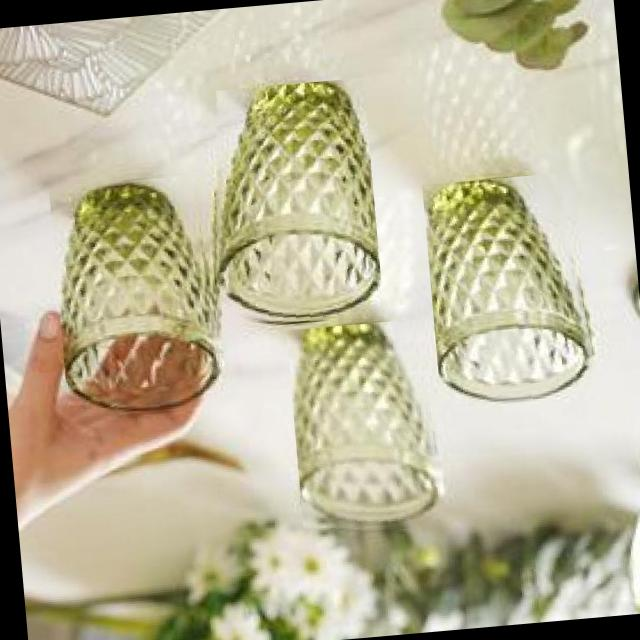Glass: (194, 76, 383, 334), (47, 171, 227, 416), (420, 170, 600, 410), (284, 316, 446, 540)
